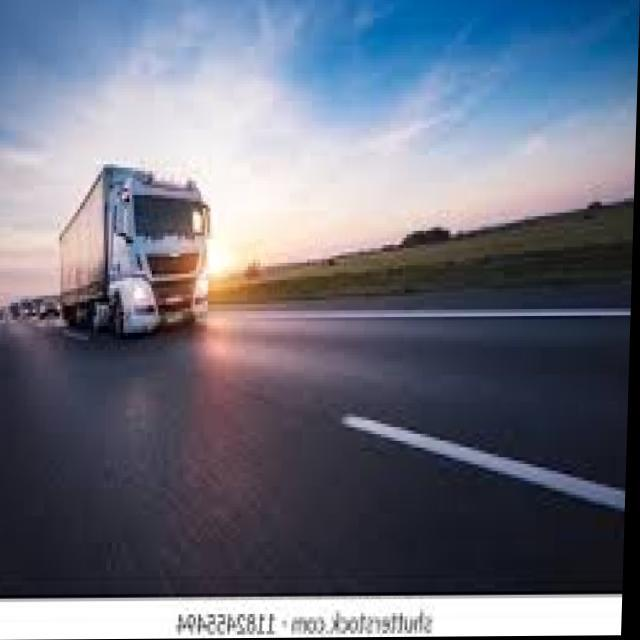covered: (59, 157, 218, 340)
